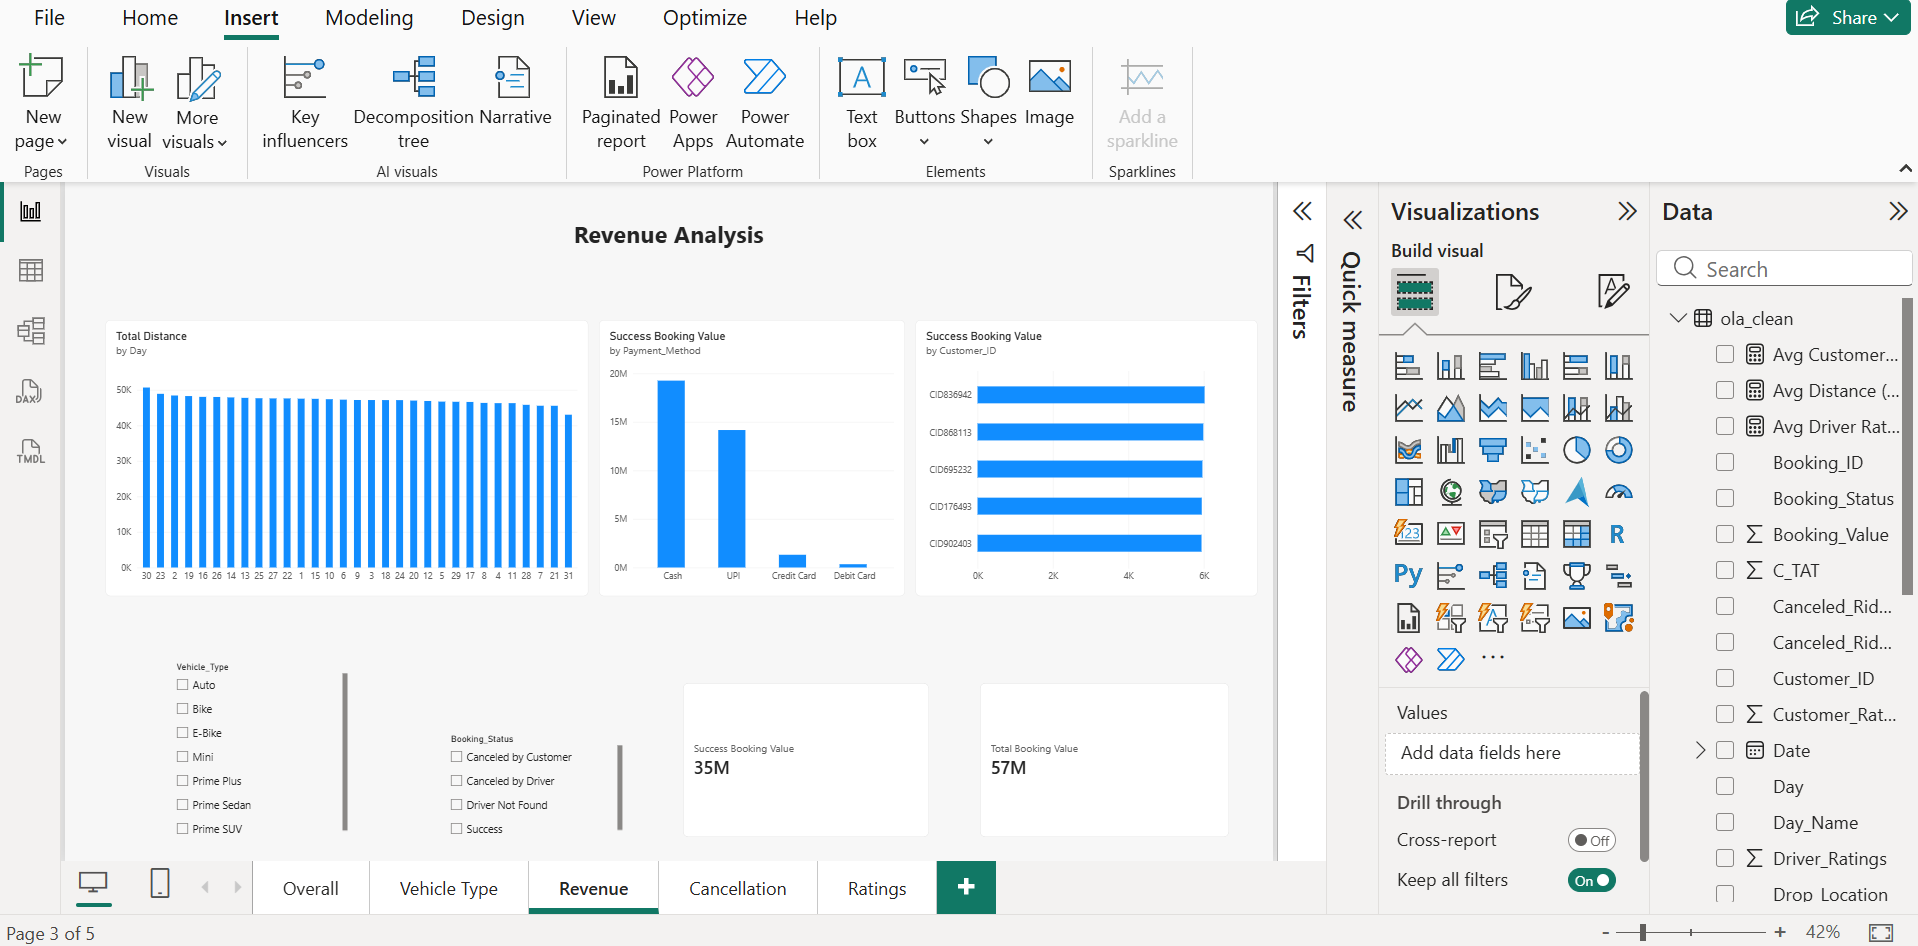

The dashboard page shown, as its layout file describes it:
{"tool":"powerbi","page":{"name":"Revenue","canvas":[1920,1080],"ordinal":2},"visuals":[{"type":"slicer","fields":{"Values":["ola_clean.Vehicle_Type"]},"box":[169.4,763.5,280,280],"z":0},{"type":"slicer","fields":{"Values":["ola_clean.Booking_Status"]},"box":[606,878,280.6,164.4],"z":1000},{"type":"cardVisual","fields":{"Data":["ola_clean.Success Booking Value"]},"box":[983,796.9,391.3,245.7],"z":2000},{"type":"cardVisual","fields":{"Data":["ola_clean.Total Booking Value"]},"box":[1455.4,796.9,396.1,245.7],"z":3000},{"type":"clusteredColumnChart","fields":{"Category":["ola_clean.Payment_Method"],"Y":["ola_clean.Success Booking Value"]},"box":[849.4,219.5,486.7,439],"z":4000},{"type":"clusteredBarChart","fields":{"Category":["ola_clean.Customer_ID"],"Y":["ola_clean.Success Booking Value"]},"box":[1352.8,219.5,544,439],"z":5000},{"type":"clusteredColumnChart","fields":{"Category":["ola_clean.Day"],"Y":["ola_clean.Total Distance"]},"box":[64.4,219.5,768.3,439],"z":6000},{"type":"textbox","box":[0,57.3,1920.7,131.2],"z":7000}]}

Visuals, with their boxes on the page's 1920x1080 design canvas (x1, y1, x2, y2). These are canvas units, not pixel positions in the 1918x946 screenshot, which may show the page scaled, cropped or inside an application window:
slicer - ola_clean.Vehicle_Type: crop(169, 764, 449, 1044)
slicer - ola_clean.Booking_Status: crop(606, 878, 887, 1042)
cardVisual - ola_clean.Success Booking Value: crop(983, 797, 1374, 1043)
cardVisual - ola_clean.Total Booking Value: crop(1455, 797, 1852, 1043)
clusteredColumnChart - ola_clean.Payment_Method x ola_clean.Success Booking Value: crop(849, 220, 1336, 658)
clusteredBarChart - ola_clean.Customer_ID x ola_clean.Success Booking Value: crop(1353, 220, 1897, 658)
clusteredColumnChart - ola_clean.Day x ola_clean.Total Distance: crop(64, 220, 833, 658)
textbox: crop(0, 57, 1921, 188)
